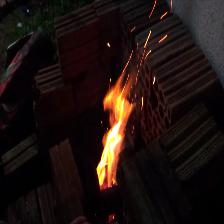fire: (93, 38, 150, 204)
